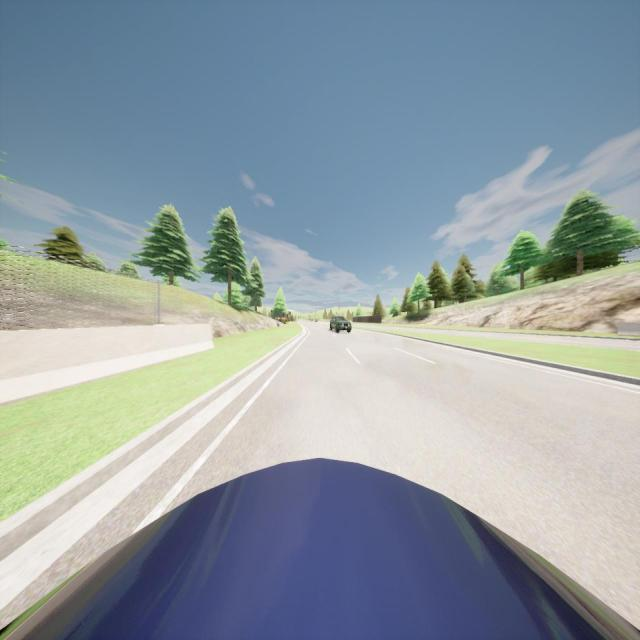Vehicle: (0, 456, 640, 640), (329, 316, 352, 333)
